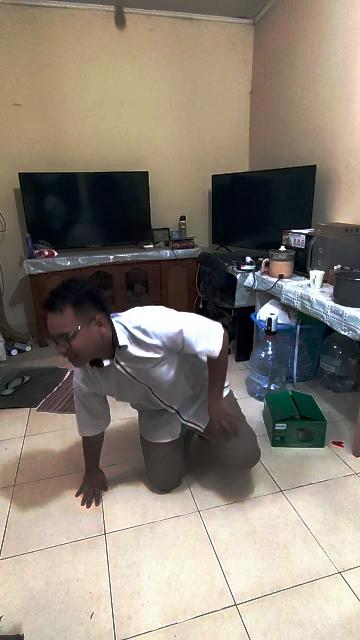jatuh: (30, 276, 266, 510)
